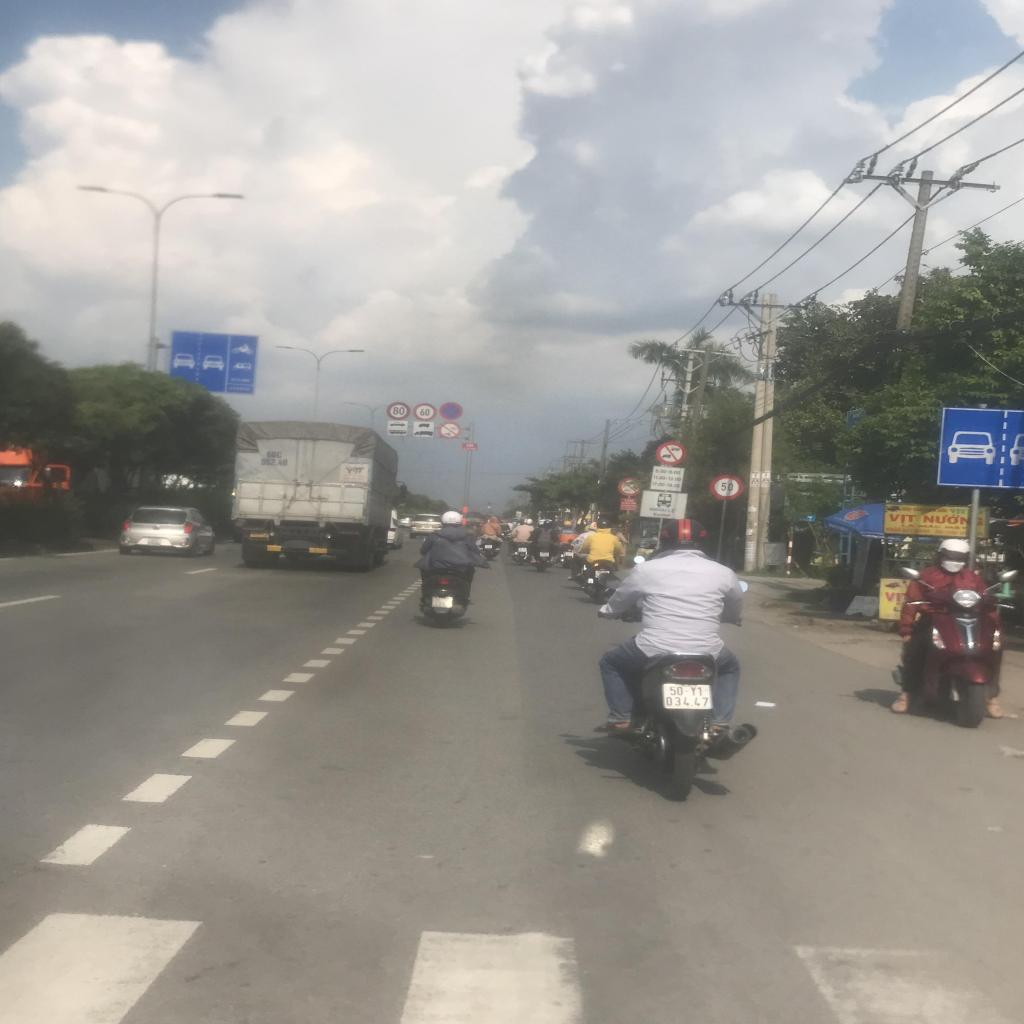cam_cac_loai_xe_3_banh: (619, 478, 641, 496)
cam_dung_xe_va_do_xe: (439, 402, 463, 420)
cam_o_to_tai_va_xe_khach: (656, 442, 687, 465)
cam_xe_2_banh_va_xe_3_banh_co_dong_co: (438, 421, 461, 439)
khac: (640, 490, 687, 519), (650, 465, 685, 493), (412, 422, 434, 430), (387, 421, 408, 429), (387, 429, 406, 436), (412, 430, 434, 436)
lan_duong_cho_tung_xe_theo_vach_ke_duong: (938, 408, 1022, 489), (169, 332, 258, 394)
toc_do_toi_da_50: (709, 474, 744, 501)
toc_do_toi_da_60: (413, 403, 436, 421)
toc_do_toi_da_80: (386, 402, 410, 421)
